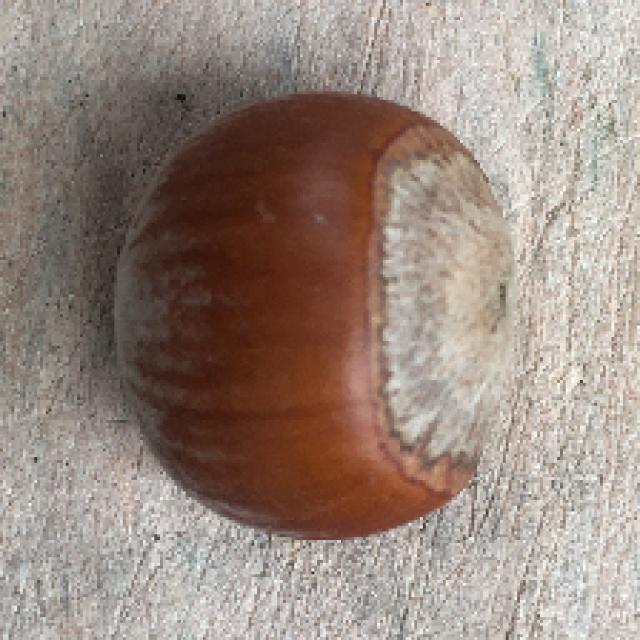qualityHazelnut: (121, 88, 524, 542)
